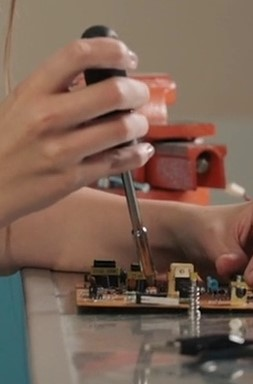screwdriver: (77, 22, 152, 286)
